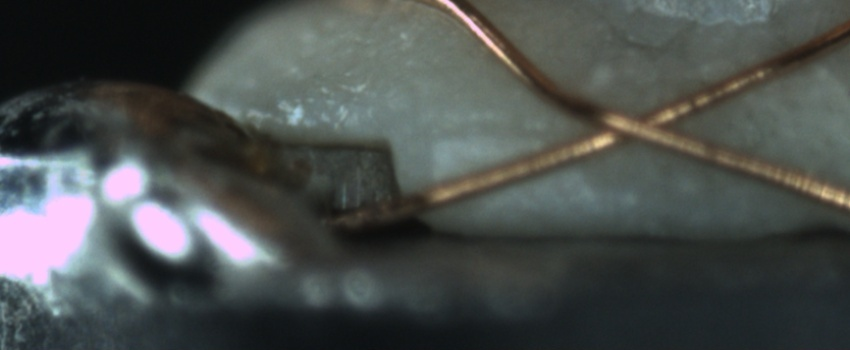CL: (532, 83, 711, 162)
DL: (432, 107, 551, 170)
